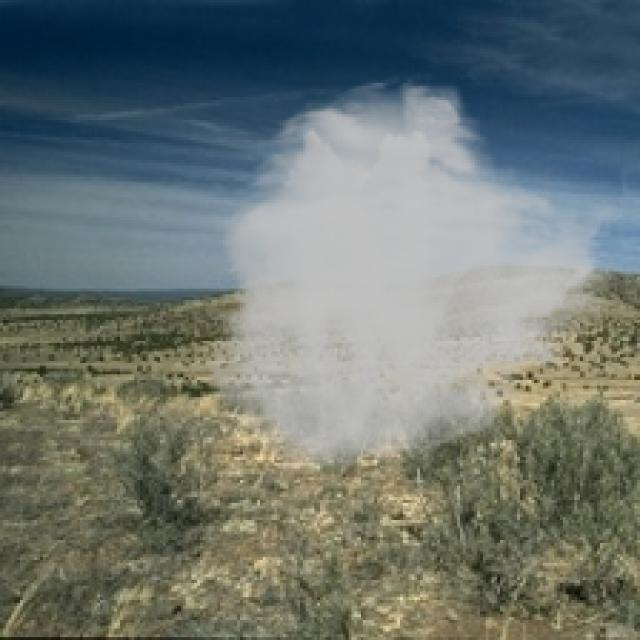smoke: (200, 77, 626, 477)
